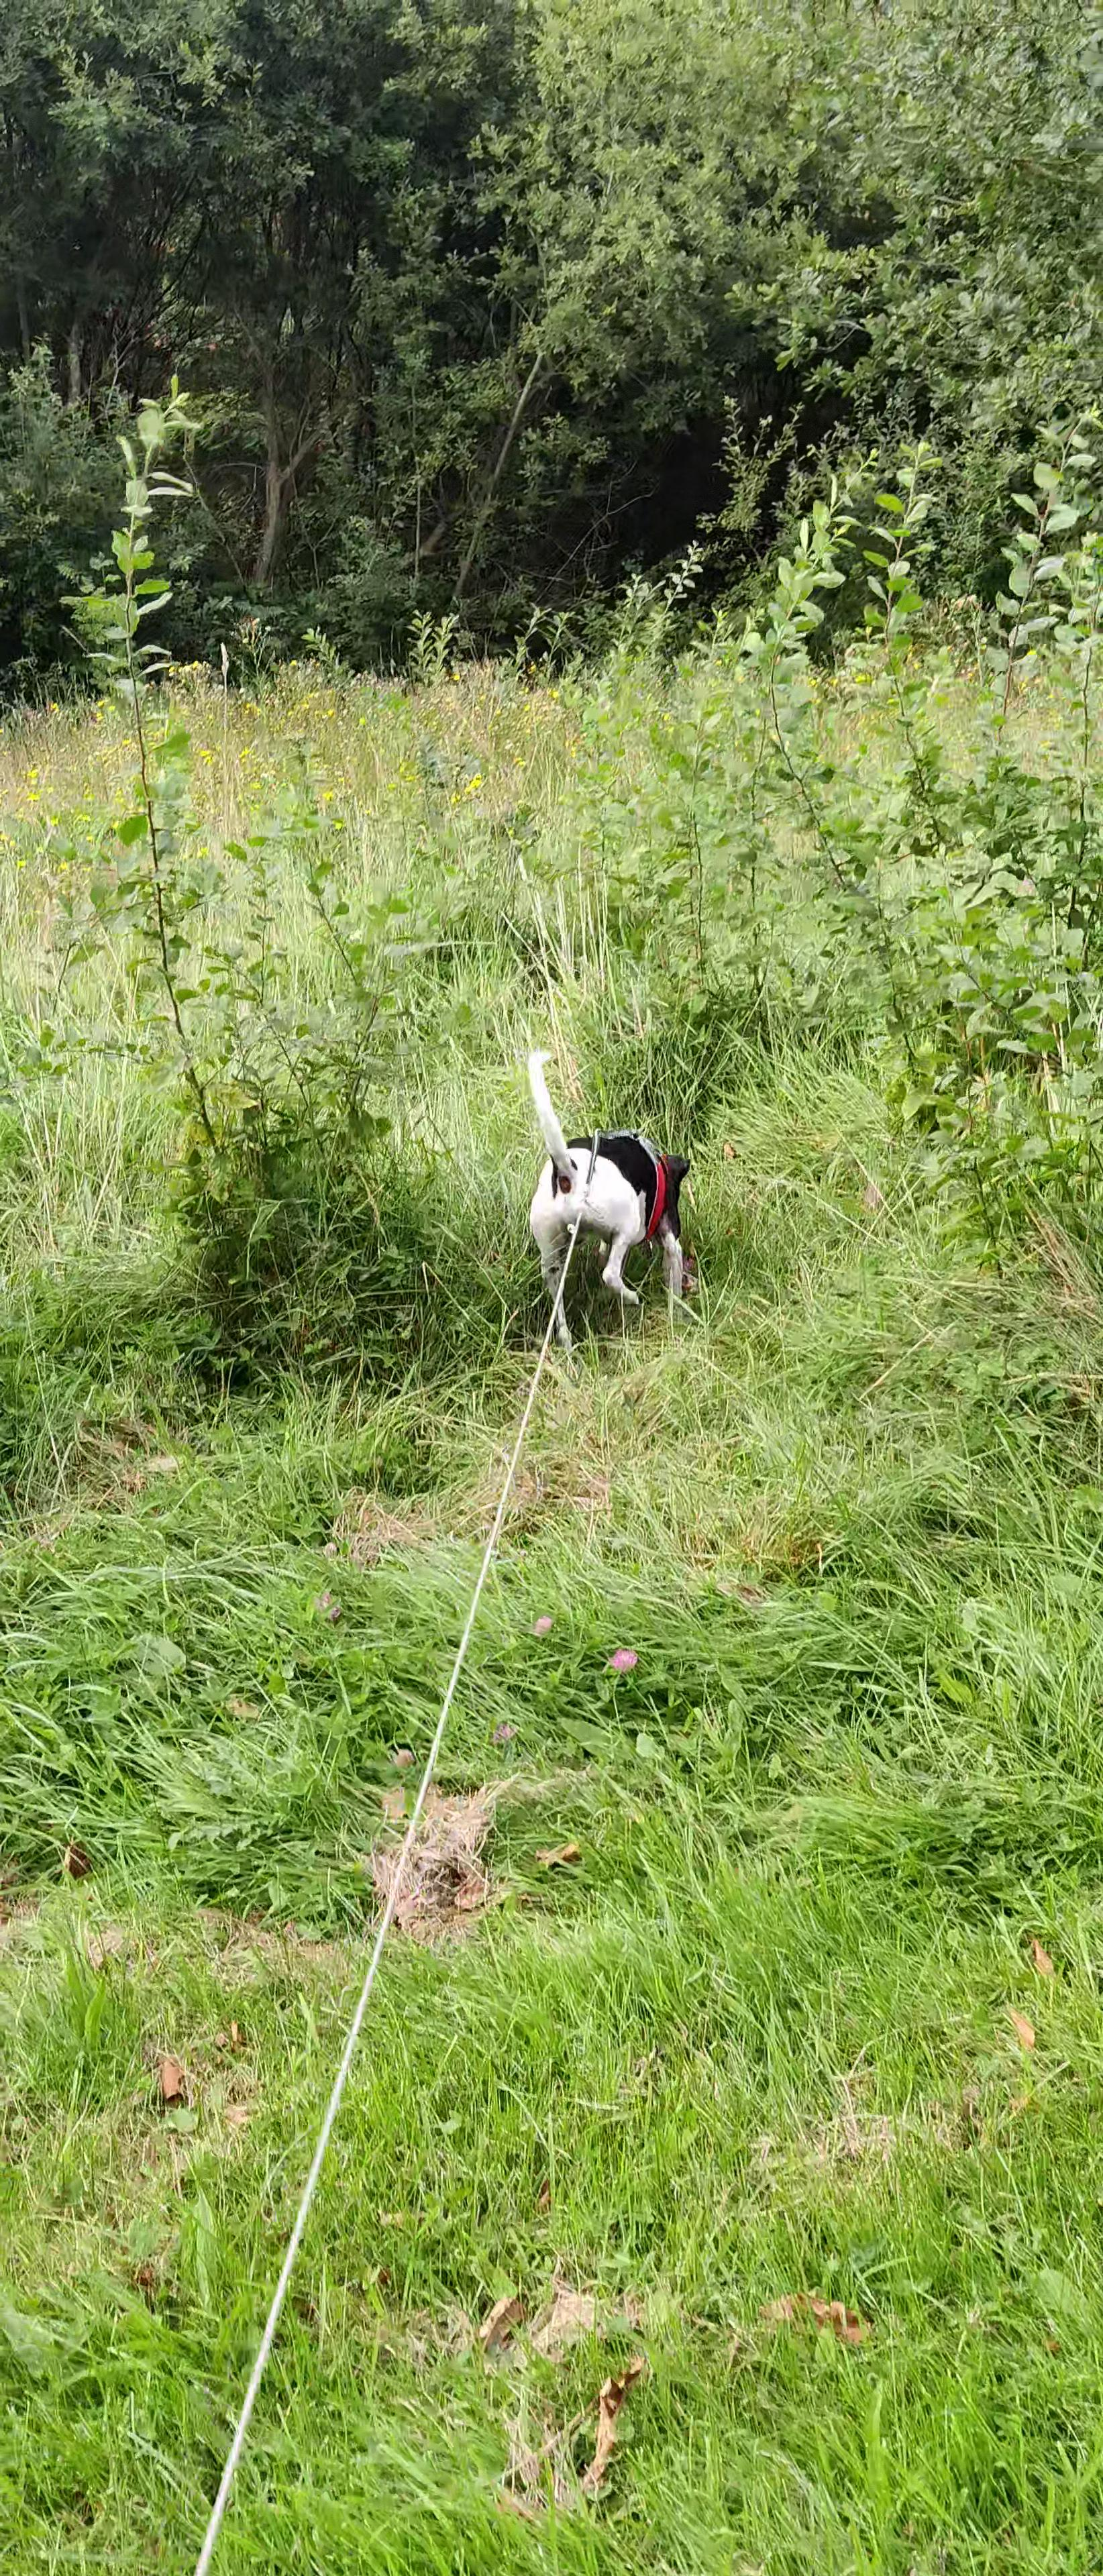Dog: (496, 1042, 718, 1355)
